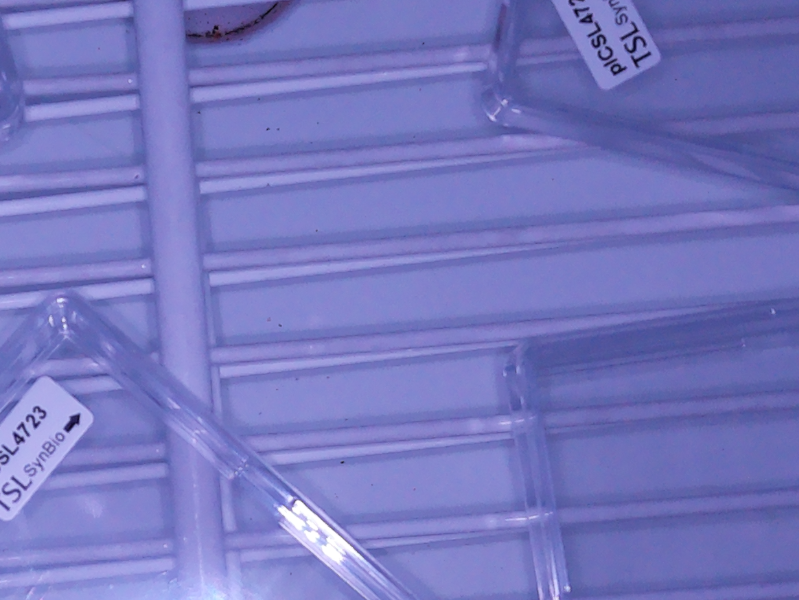plate: (1, 289, 433, 600), (498, 295, 799, 600), (481, 1, 799, 190), (1, 19, 27, 147)
